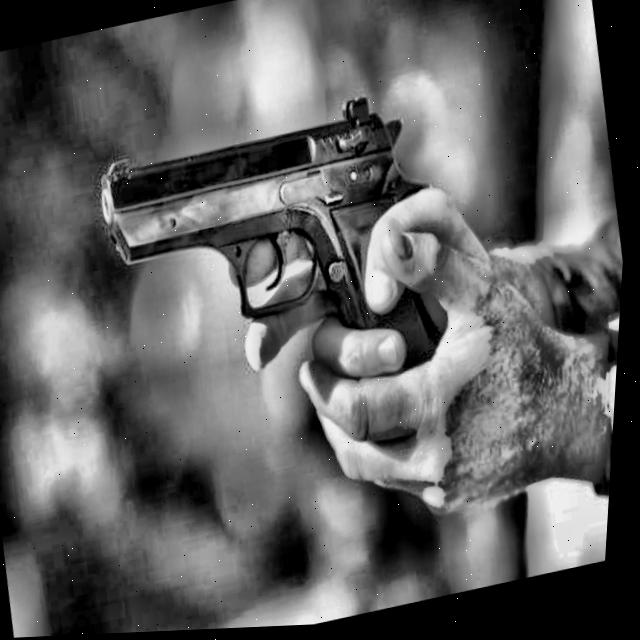pistol: (56, 62, 514, 506)
